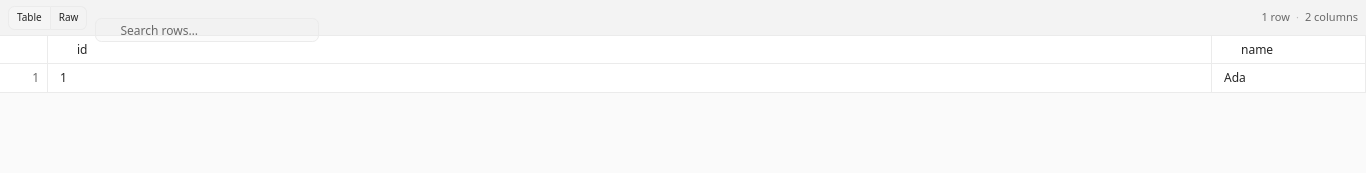
CsvViewer › shows a no-matching-rows state when search matches nothing
In the field named "Search CSV rows": (208, 30) [96,18,320,42], type "zzz"
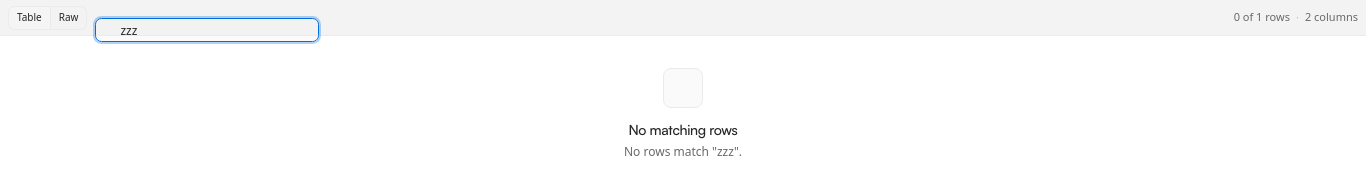
Check: the text "No matching rows" is shown, box [624,120,742,140]
